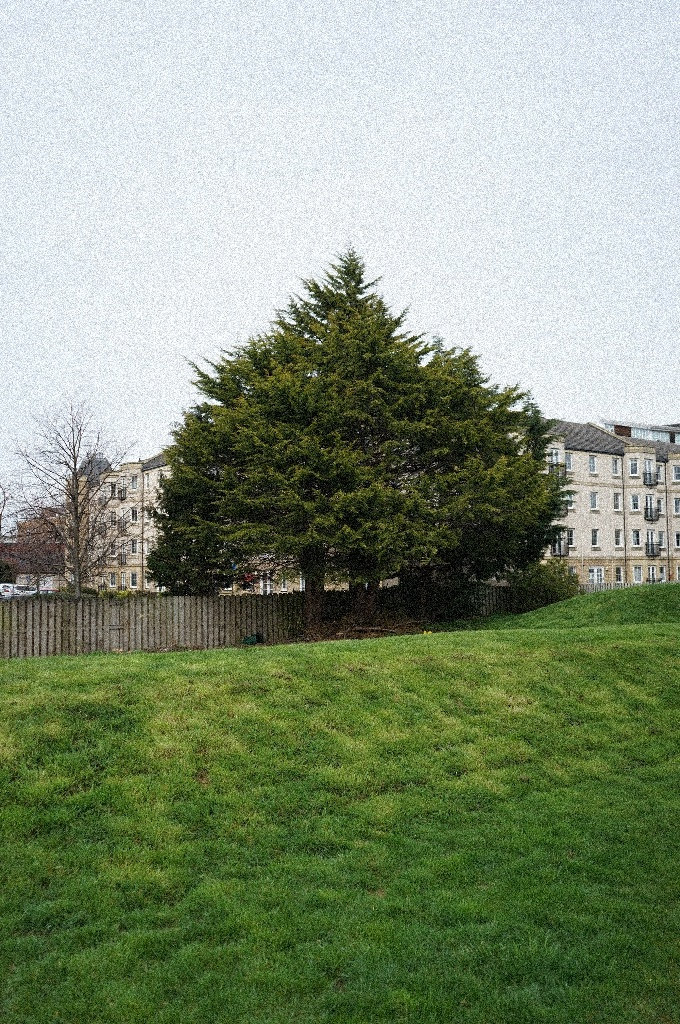Tree: (143, 202, 621, 679), (4, 390, 135, 602)
